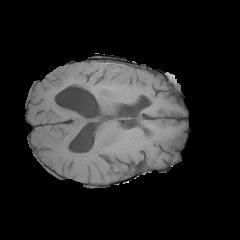glioma: (48, 64, 154, 105)
